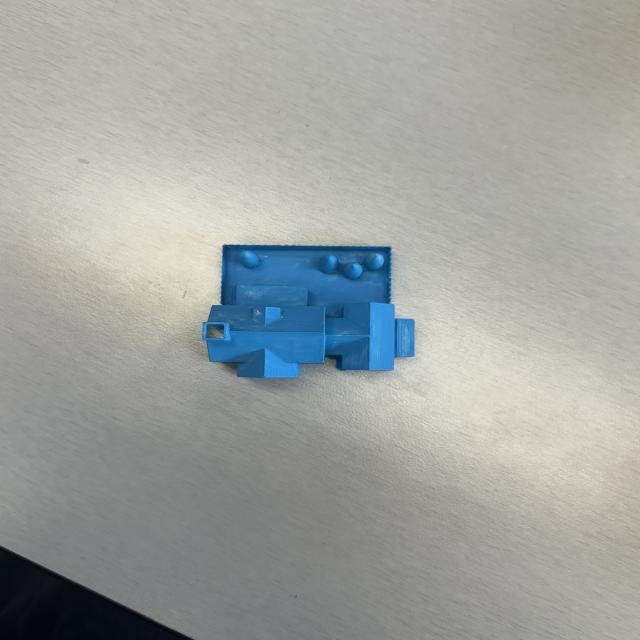house: (202, 244, 418, 381)
